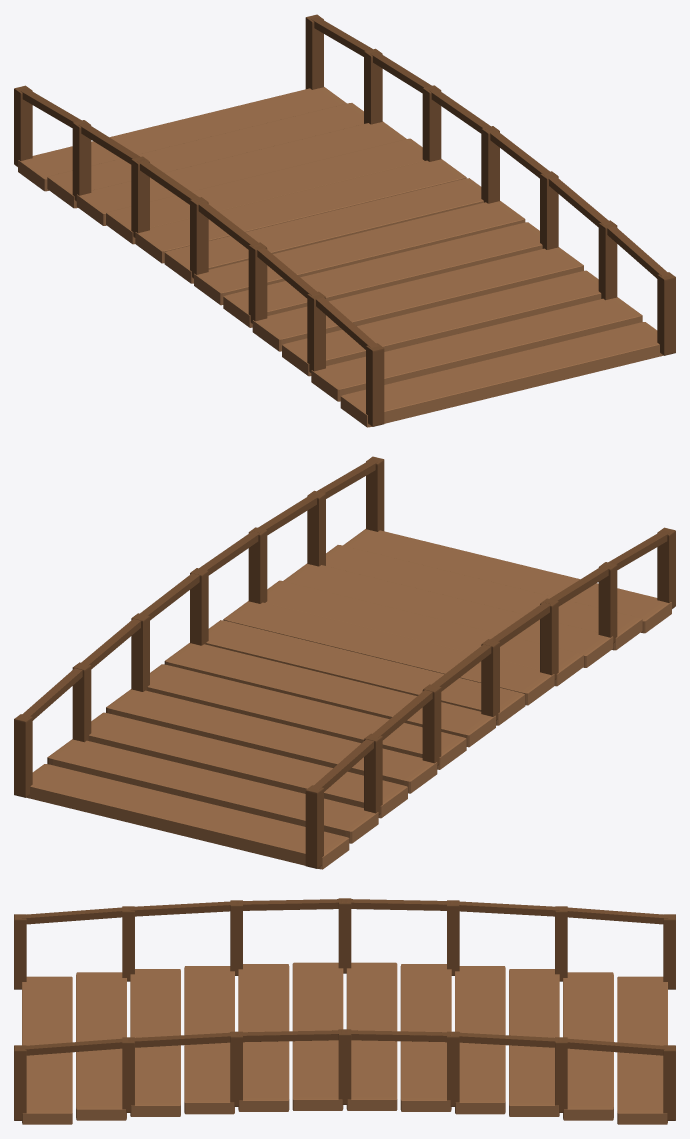
File: most.glb
3 views of the same model, one above another, from view 1: azimuth 30°, elevation 25°; view 2: azimuth 150°, elevation 25°; view 3: azimuth 270°, elevation 25° (orthographic). The views are drawn at different scales.
Visible parts, largest first — view 1: most; view 2: most; view 3: most.
Part boxes in pixels (x1,y1,x2,y2): most: (14, 14, 675, 427); most: (14, 456, 675, 869); most: (14, 898, 675, 1124).
Bounding box in the file's own units: 4.6 × 1.41 × 9.38.
